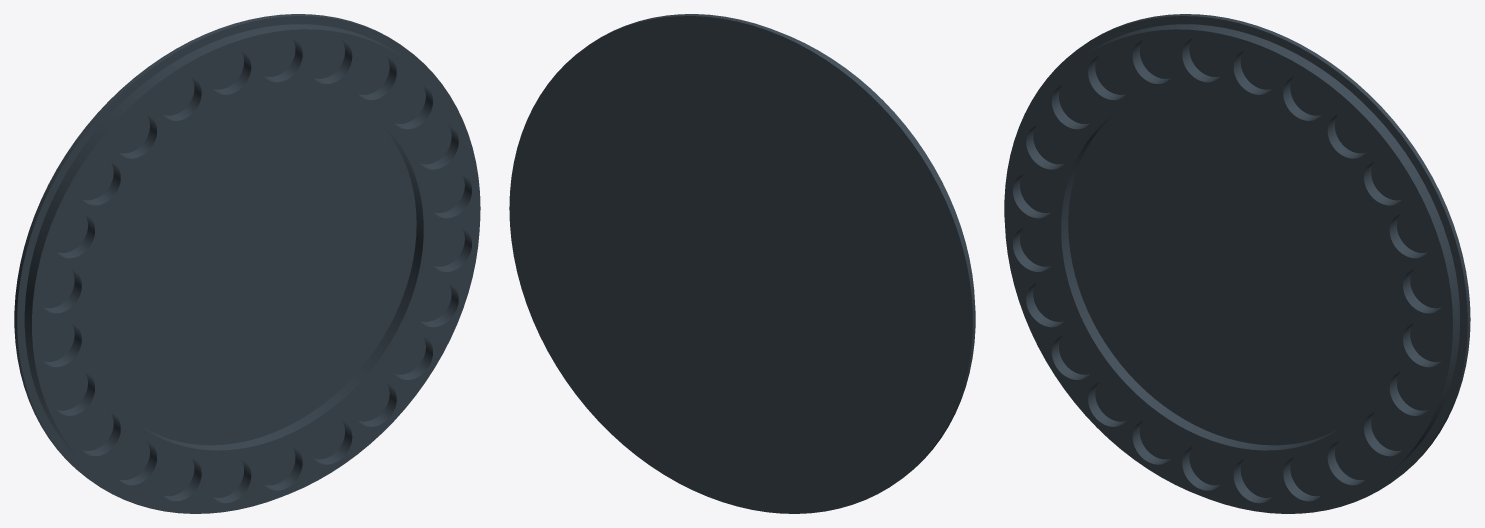
File: Bottom_Tray.obj
3 renders of one model, left to right at view 1: azimuth 30°, elevation 25°; view 2: azimuth 150°, elevation 25°; view 3: azimuth 330°, elevation 25°, orthographic.
Visible parts, largest first — view 1: Bottom_Tray; view 2: Bottom_Tray; view 3: Bottom_Tray.
Part boxes in pixels (<box>): Bottom_Tray: <box>14,14,480,513</box>; Bottom_Tray: <box>509,14,975,513</box>; Bottom_Tray: <box>1004,14,1470,513</box>.
Size of the model in its own units: 57.98 by 57.99 by 2.15.
